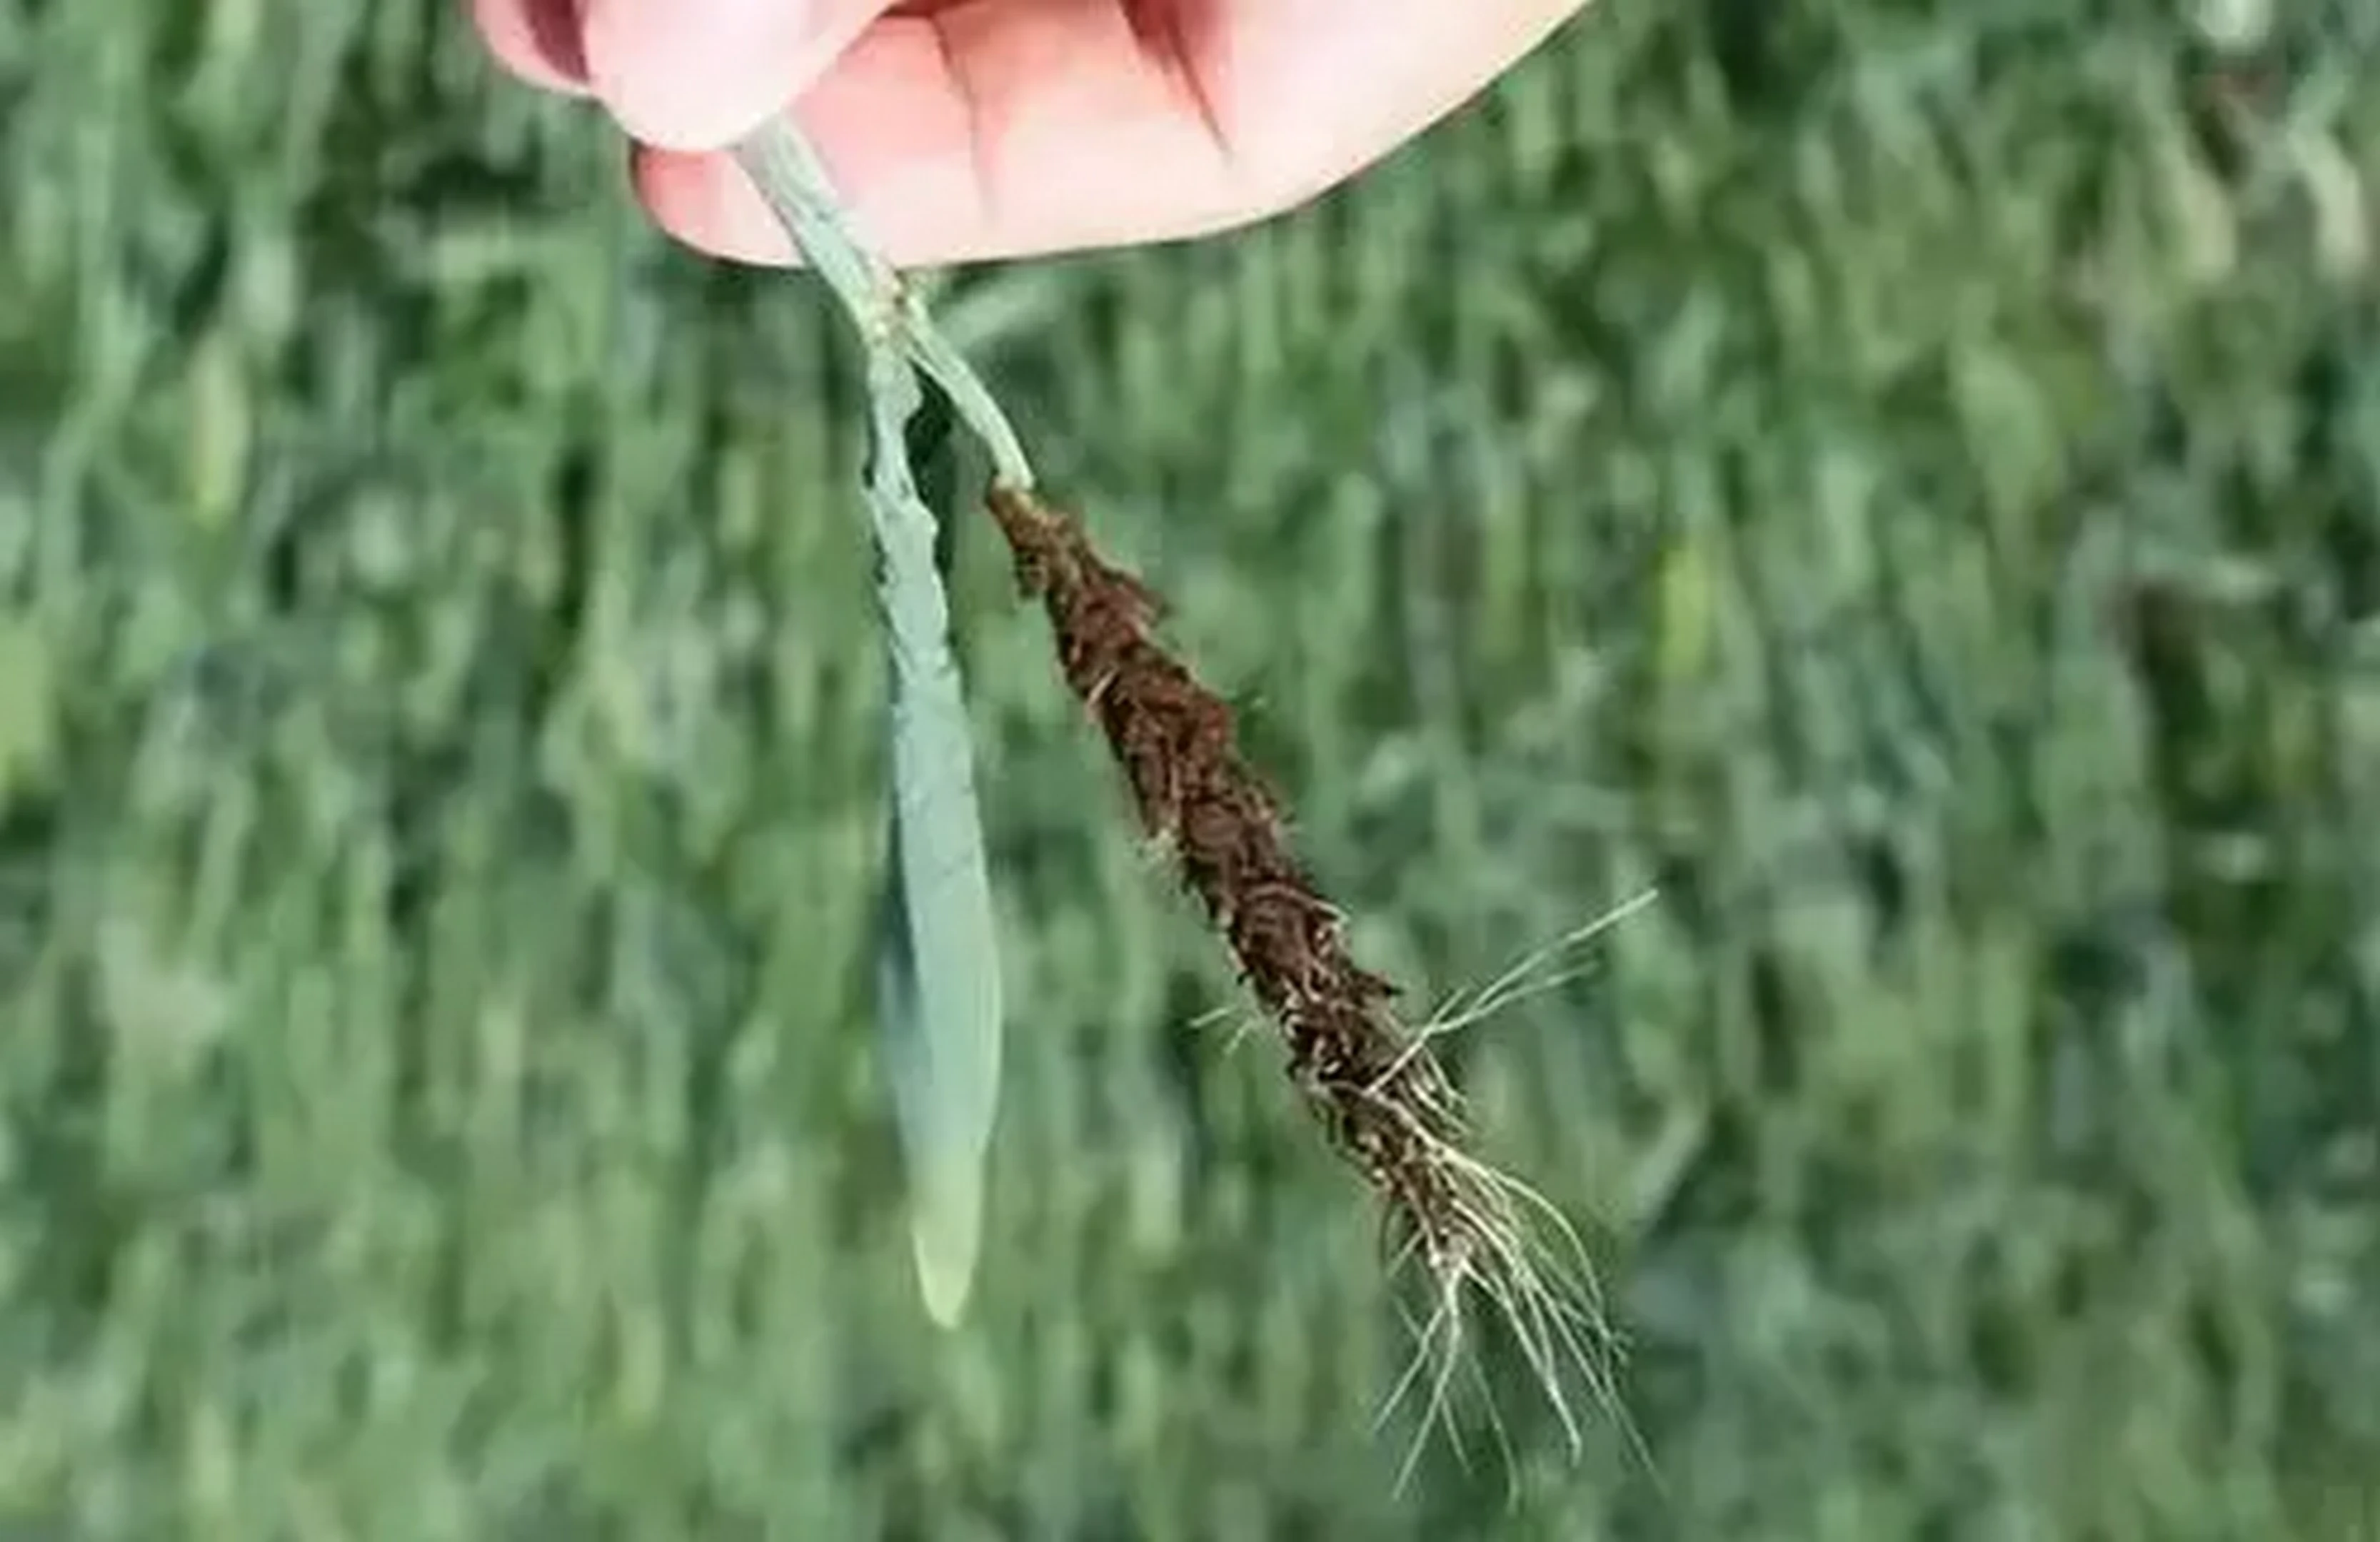Wheat Loose Smut: (975, 461, 1554, 1313)
